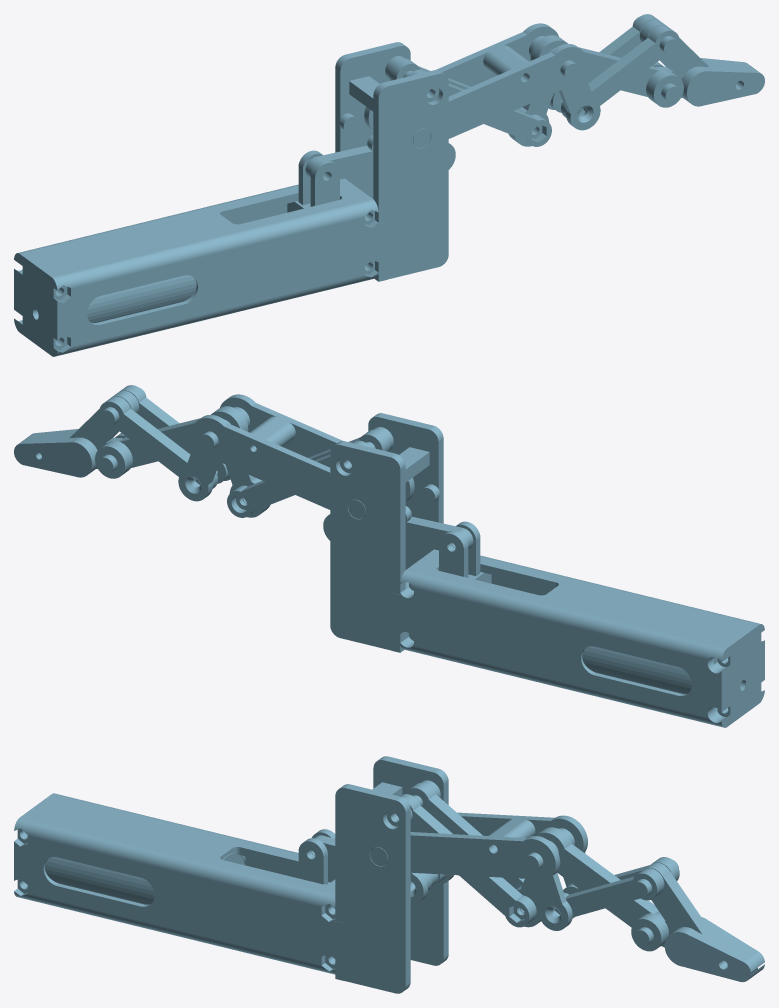
The model's file is 05-finished-finger.glb.
3 views of the same model, one above another, from view 1: azimuth 30°, elevation 25°; view 2: azimuth 150°, elevation 25°; view 3: azimuth 330°, elevation 25° (orthographic).
Parts seen in each view (by area): view 1: 05-finished-finger; view 2: 05-finished-finger; view 3: 05-finished-finger.
Part boxes in pixels (x1=…): 05-finished-finger: x1=14, y1=14, x2=764, y2=356; 05-finished-finger: x1=14, y1=385, x2=764, y2=727; 05-finished-finger: x1=14, y1=756, x2=764, y2=993.
Bounding box in the file's own units: 0.2878 × 0.0735 × 0.03.
